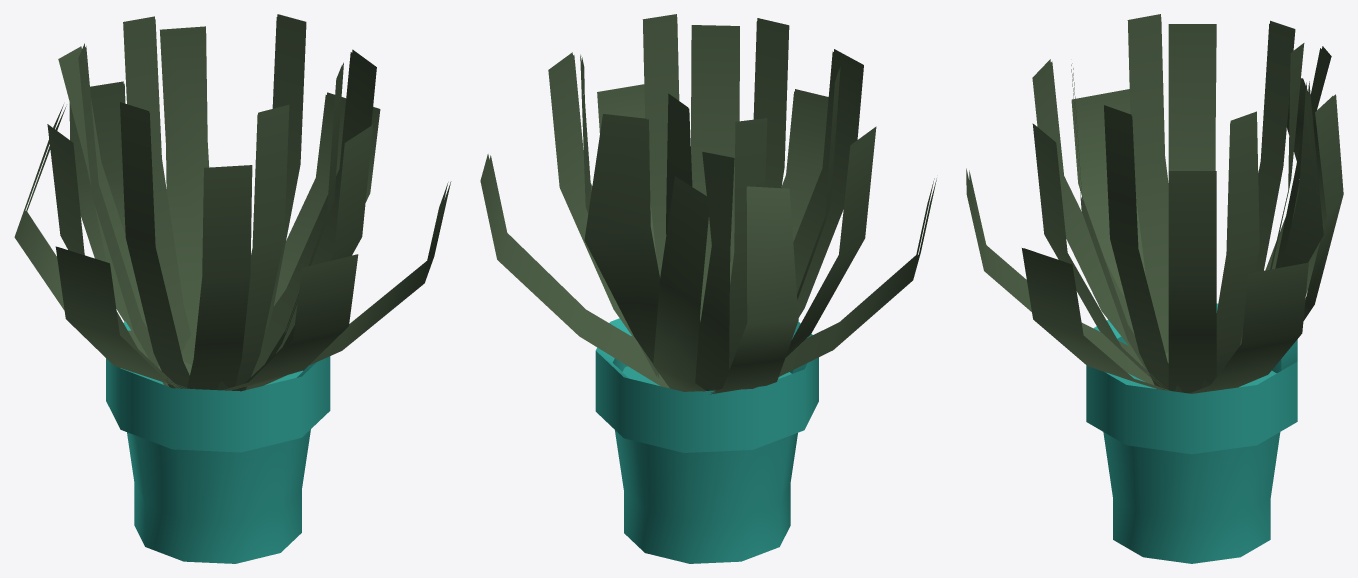
Rendered from plant_export.fbx.
The picture shows the model from 3 angles, left to right: view 1: azimuth 30°, elevation 25°; view 2: azimuth 150°, elevation 25°; view 3: azimuth 270°, elevation 25°; orthographic projection.
Parts seen in each view (by area): view 1: plant; view 2: plant; view 3: plant.
Boxes of the visible parts, left/top/right/bottom form: plant: left=14, top=14, right=451, bottom=563; plant: left=480, top=14, right=936, bottom=563; plant: left=966, top=14, right=1343, bottom=563.
Bounding box in the file's own units: 114 × 136 × 98.02.
